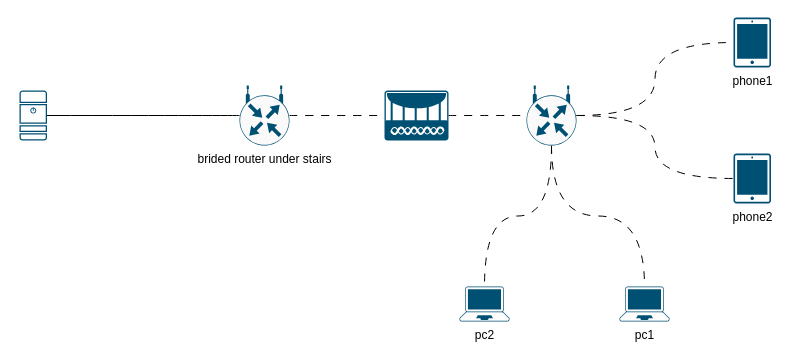
The diagram is 790 pixels wide and 359 high, and some of its shapes have lost their labels. The shapes that lost their labels are listed below. From the top down, each one's centre as x and y in pixels, then its label:
[32,115]: server
[416,115]: wireless bridge
[551,115]: main router
